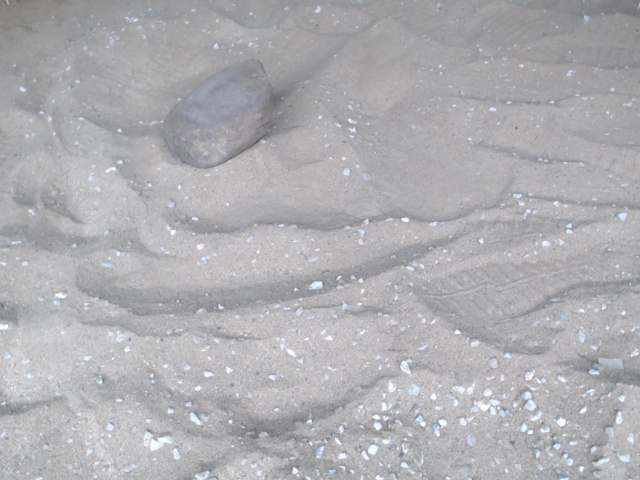rock: (157, 54, 281, 176)
